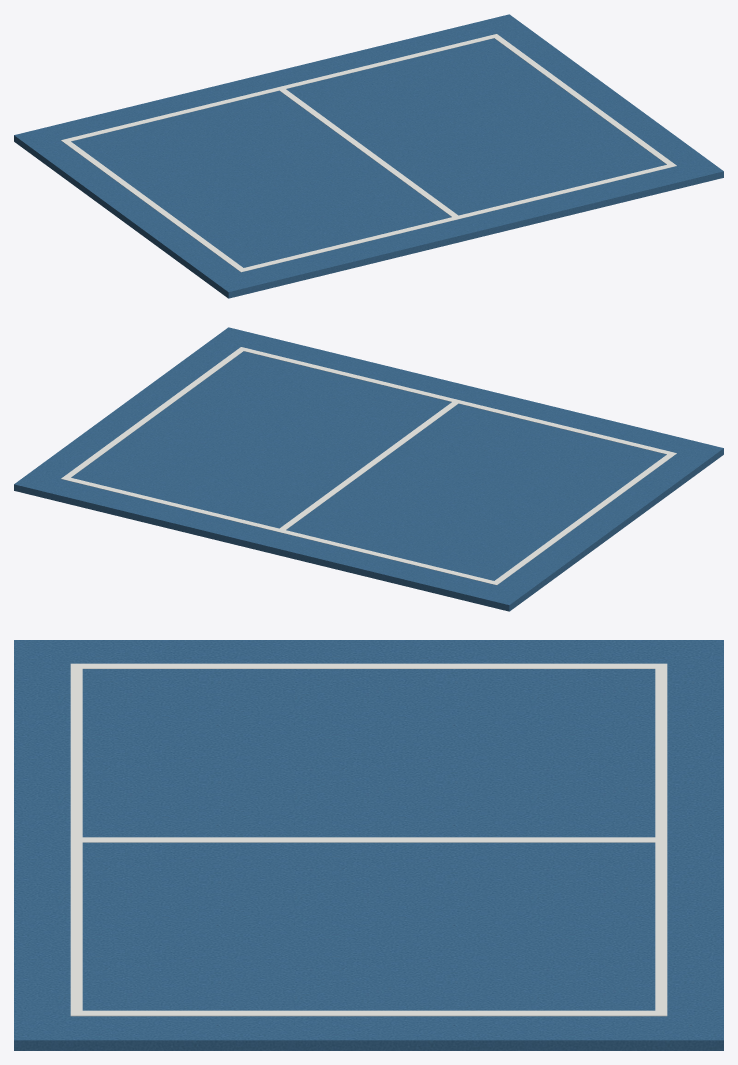
3 renders of one model, top to bottom at view 1: azimuth 30°, elevation 25°; view 2: azimuth 150°, elevation 25°; view 3: azimuth 270°, elevation 25°, orthographic. The views are drawn at different scales.
Parts seen in each view (by area): view 1: surface.sports_court (×2); view 2: surface.sports_court (×2); view 3: surface.sports_court (×2).
Part boxes in pixels (x1,y1,x2,y2): surface.sports_court (×2): (14,14,723,298); surface.sports_court (×2): (14,327,723,611); surface.sports_court (×2): (14,640,723,1050).
Bounding box in the file's own units: 4 × 3 × 0.052.
2 materials, 1 textured.
